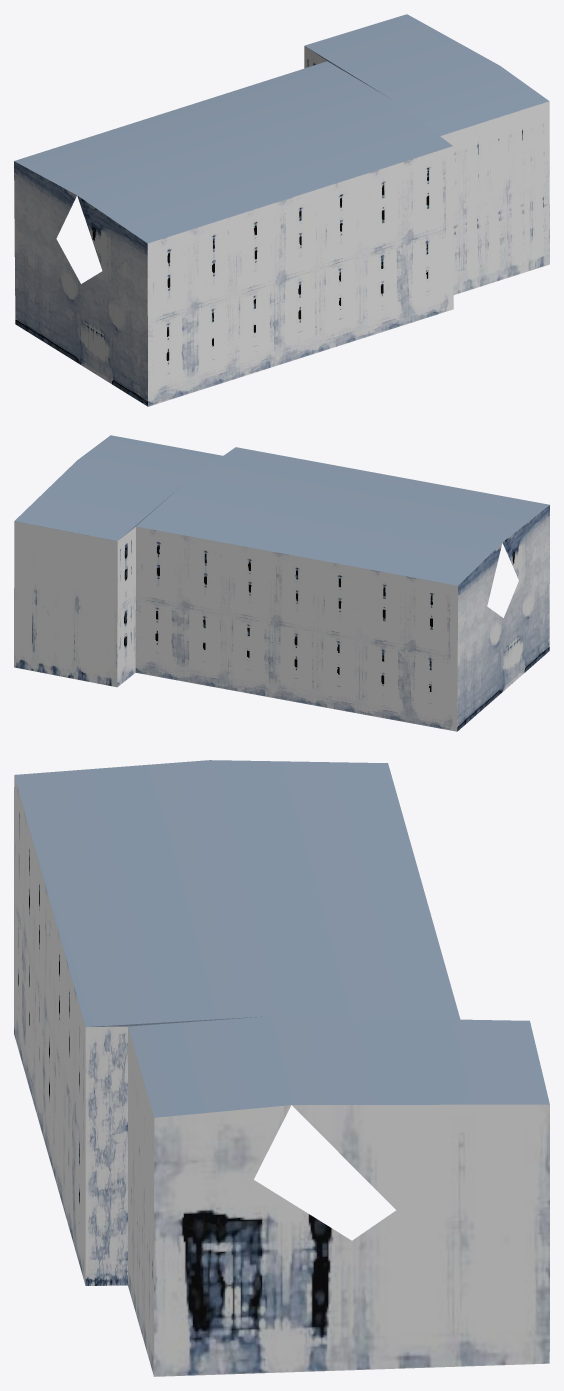
The model's file is Neuffer-Bau.gltf.
3 views of the same model, one above another, from view 1: azimuth 30°, elevation 25°; view 2: azimuth 150°, elevation 25°; view 3: azimuth 270°, elevation 25° (orthographic). The views are drawn at different scales.
Visible parts, largest first — view 1: Dach.1; view 2: Dach.1; view 3: Dach.1.
Boxes of the visible parts, <box> form: Dach.1: <box>14,14,549,406</box>; Dach.1: <box>14,435,549,731</box>; Dach.1: <box>14,760,549,1376</box>.
Size of the model in its own units: 37.29 by 13.1 by 23.66.
Materials: 8 (7 with a texture image).
